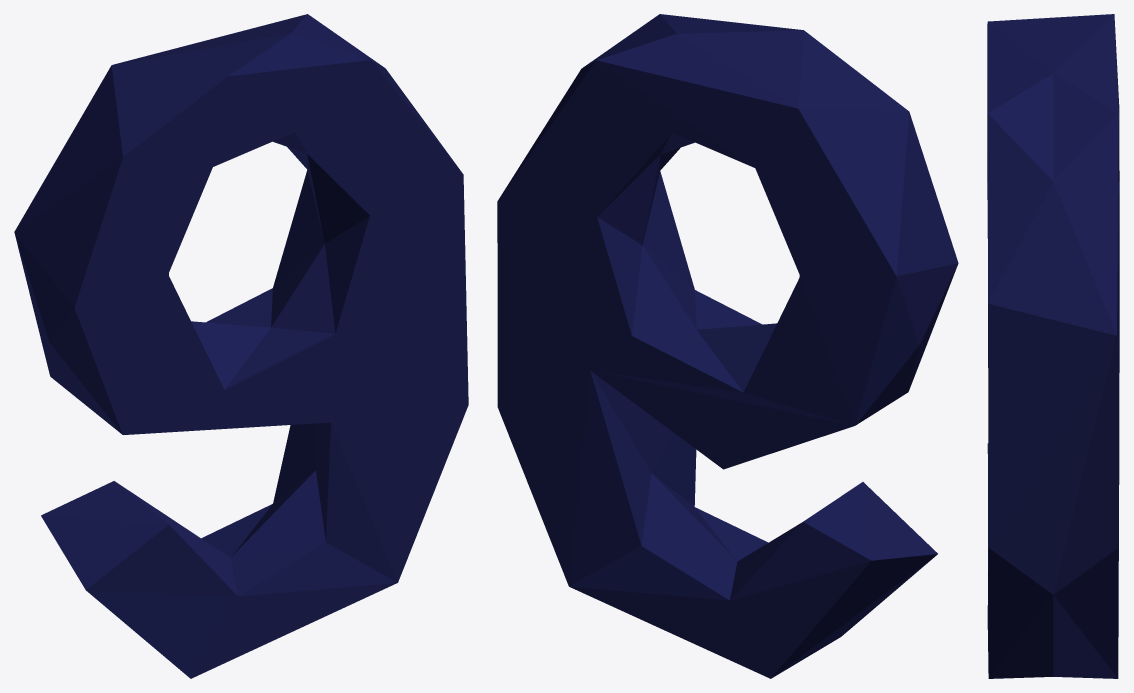
3 views of the same model, side by side, from view 1: azimuth 30°, elevation 25°; view 2: azimuth 150°, elevation 25°; view 3: azimuth 270°, elevation 25° (orthographic). The views are drawn at different scales.
Visible parts, largest first — view 1: Nine; view 2: Nine; view 3: Nine.
Boxes of the visible parts, bbox=[...] form: Nine: bbox=[14, 14, 468, 678]; Nine: bbox=[497, 14, 958, 678]; Nine: bbox=[987, 14, 1119, 678].
Bounding box in the file's own units: 0.348 × 0.4986 × 0.0968.
